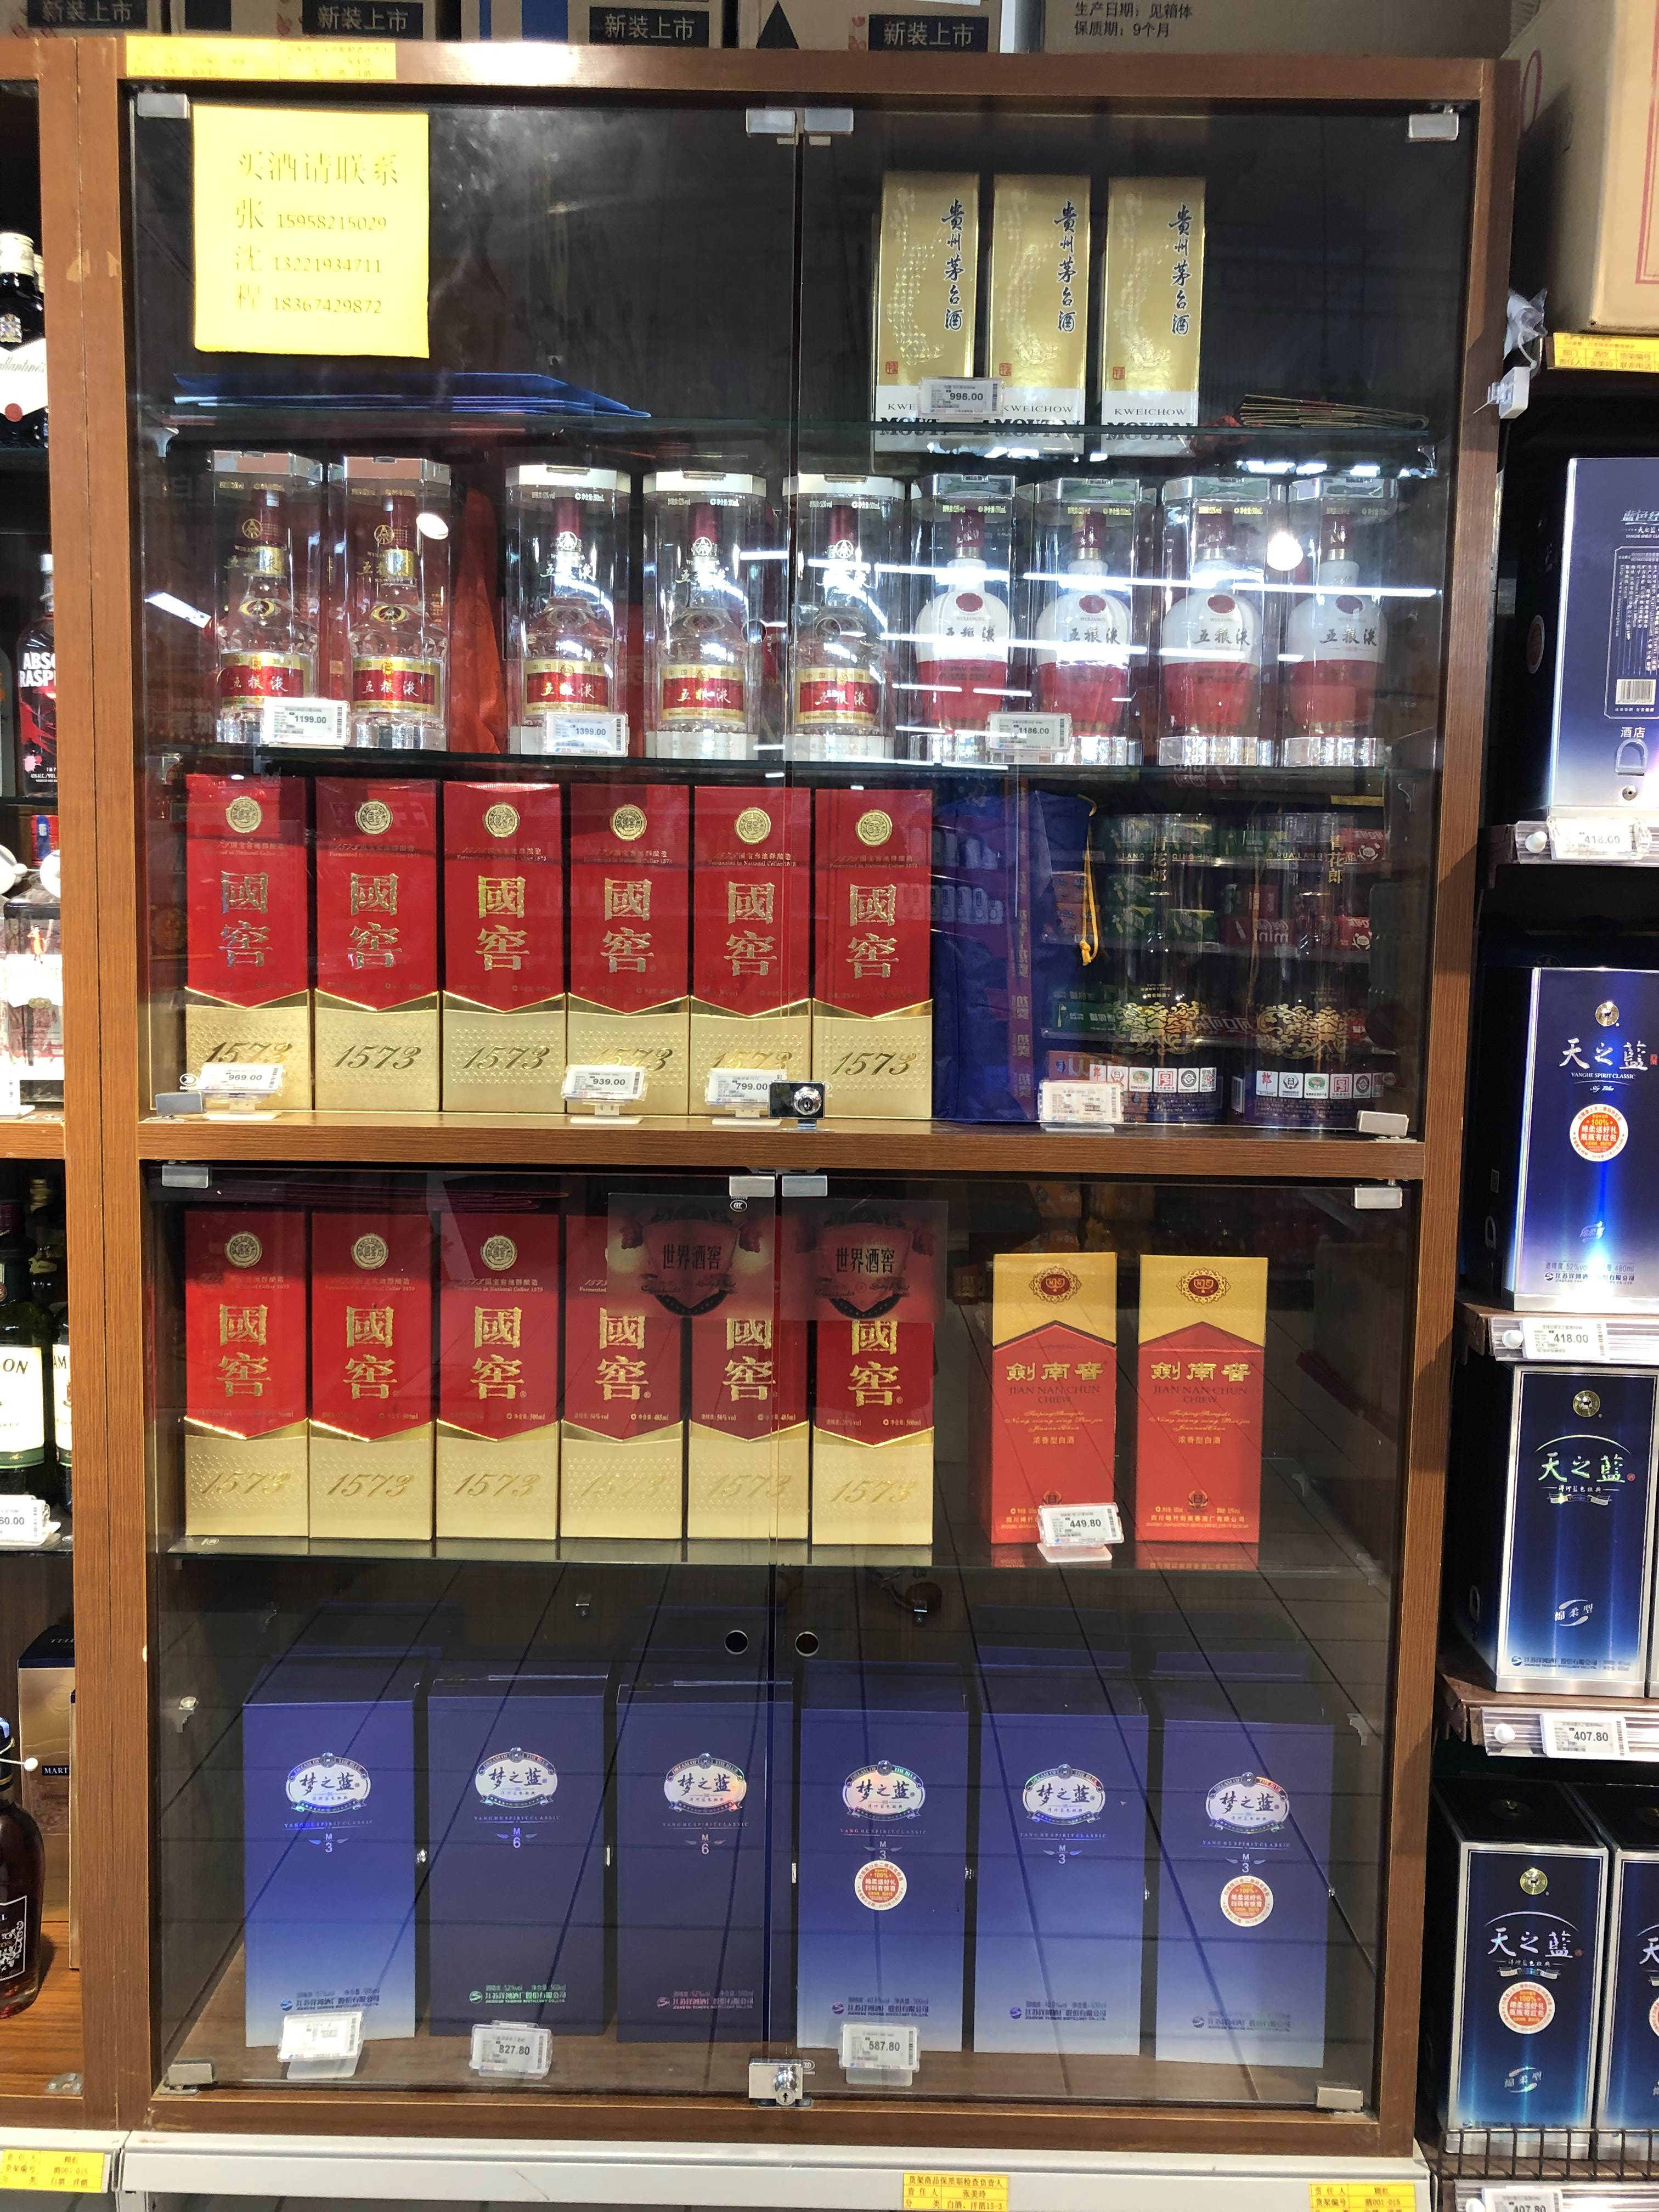bottle: (1053, 806, 1223, 1129), (1223, 806, 1387, 1130), (1532, 460, 1656, 869), (1575, 1791, 1656, 2177)
box: (1412, 1773, 1619, 2168), (1481, 948, 1659, 1317), (1474, 1346, 1654, 1707), (972, 1703, 1148, 2067), (1159, 1707, 1335, 2071), (798, 1696, 974, 2060), (556, 1190, 708, 1540), (174, 1205, 317, 1536), (971, 1247, 1127, 1547), (802, 1212, 936, 1545), (802, 784, 934, 1120), (439, 779, 572, 1115), (685, 786, 816, 1122), (556, 786, 687, 1122), (310, 777, 441, 1113), (179, 773, 310, 1109), (1124, 1247, 1269, 1548), (436, 1191, 559, 1541), (303, 1209, 434, 1536), (680, 1212, 807, 1540), (1096, 174, 1209, 458), (979, 174, 1094, 453), (873, 164, 981, 451)
bucket: (612, 1696, 786, 2062)
others: (411, 1710, 605, 2055), (235, 1703, 427, 2048), (202, 444, 343, 747), (1014, 474, 1152, 763), (641, 463, 769, 766), (331, 456, 457, 752), (1157, 474, 1281, 772), (502, 465, 627, 758), (1279, 474, 1401, 765), (775, 463, 894, 759), (897, 474, 1016, 758)
